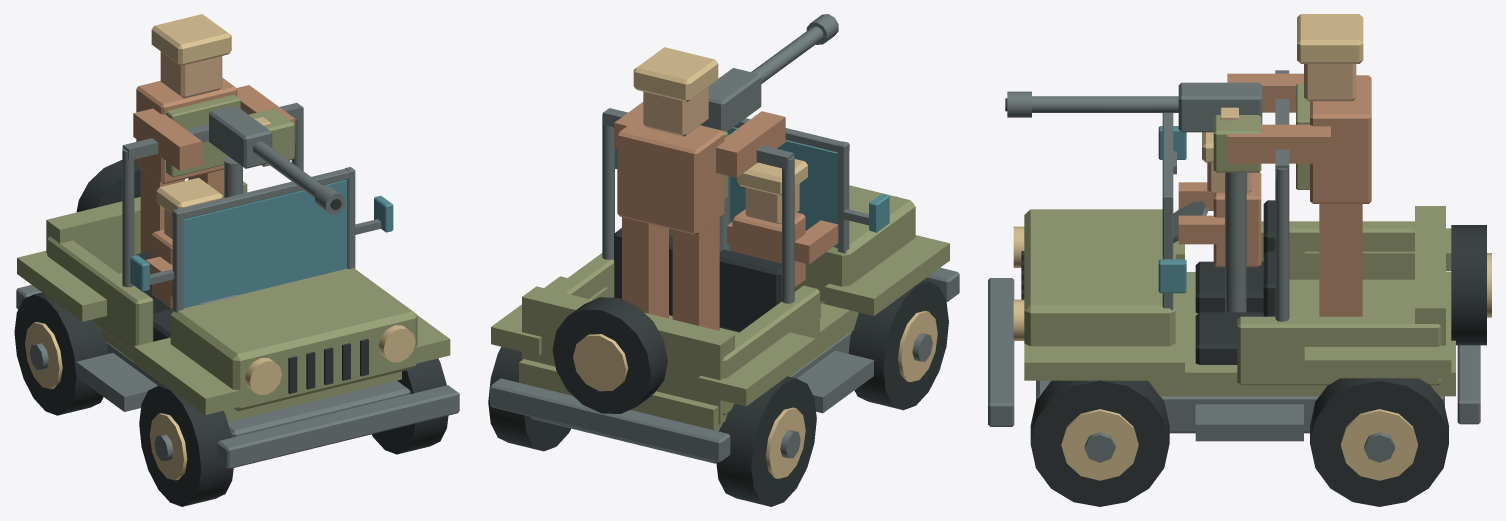
Rendered from scout-jeep.glb.
3 views of the same model, side by side, from view 1: azimuth 30°, elevation 25°; view 2: azimuth 150°, elevation 25°; view 3: azimuth 270°, elevation 25° (orthographic). The views are drawn at different scales.
Visible parts, largest first — view 1: Floor, Chassis, Mirror, Gunner leg, Tire, Tire.001, Gun pedestal, Seat cushion, Headlight, Gunner vest, Gunner helmet, Tire.002 (+4 smaller); view 2: Floor, Gunner leg, Chassis, Seat cushion, Tire.001, Tire, Gun pedestal, Mirror, Driver torso, Headlight, Gunner helmet, Tire.003 (+4 smaller); view 3: Floor, Chassis, Gunner leg, Tire.003, Tire.002, Seat cushion, Gun pedestal, Driver torso, Rim.002, Gunner helmet, Rim.003, Gunner vest (+6 smaller).
Boxes of the visible parts, x1,y1,x2,y2 form: Floor: (17,181,450,421); Chassis: (16,102,459,468); Mirror: (130,179,393,308); Gunner leg: (133,78,295,252); Tire: (139,384,233,506); Tire.001: (14,292,108,415); Gun pedestal: (209,105,345,214); Seat cushion: (76,159,368,393); Headlight: (156,177,415,394); Gunner vest: (166,94,294,177); Gunner helmet: (151,14,270,126); Tire.002: (372,358,448,454); Floor: (491,185,949,430); Gunner leg: (614,102,785,330); Chassis: (490,108,959,463); Seat cushion: (552,228,820,413); Tire.001: (716,376,816,506); Tire: (848,280,948,410); Gun pedestal: (700,14,838,251); Mirror: (615,127,889,247); Driver torso: (727,209,838,287); Headlight: (573,159,897,391); Gunner helmet: (633,47,718,102); Tire.003: (488,347,570,451); Floor: (1024,206,1455,396); Chassis: (988,70,1480,441); Gunner leg: (1227,73,1371,316); Tire.003: (1310,378,1448,506); Tire.002: (1030,380,1169,506); Seat cushion: (1021,200,1486,364); Gun pedestal: (1007,82,1262,312); Driver torso: (1178,172,1261,267); Rim.002: (1061,409,1138,480); Gunner helmet: (1220,14,1363,120); Rim.003: (1341,409,1417,480); Gunner vest: (1213,83,1309,189).
Size of the model in its own units: 2.23 by 2.94 by 3.26.
